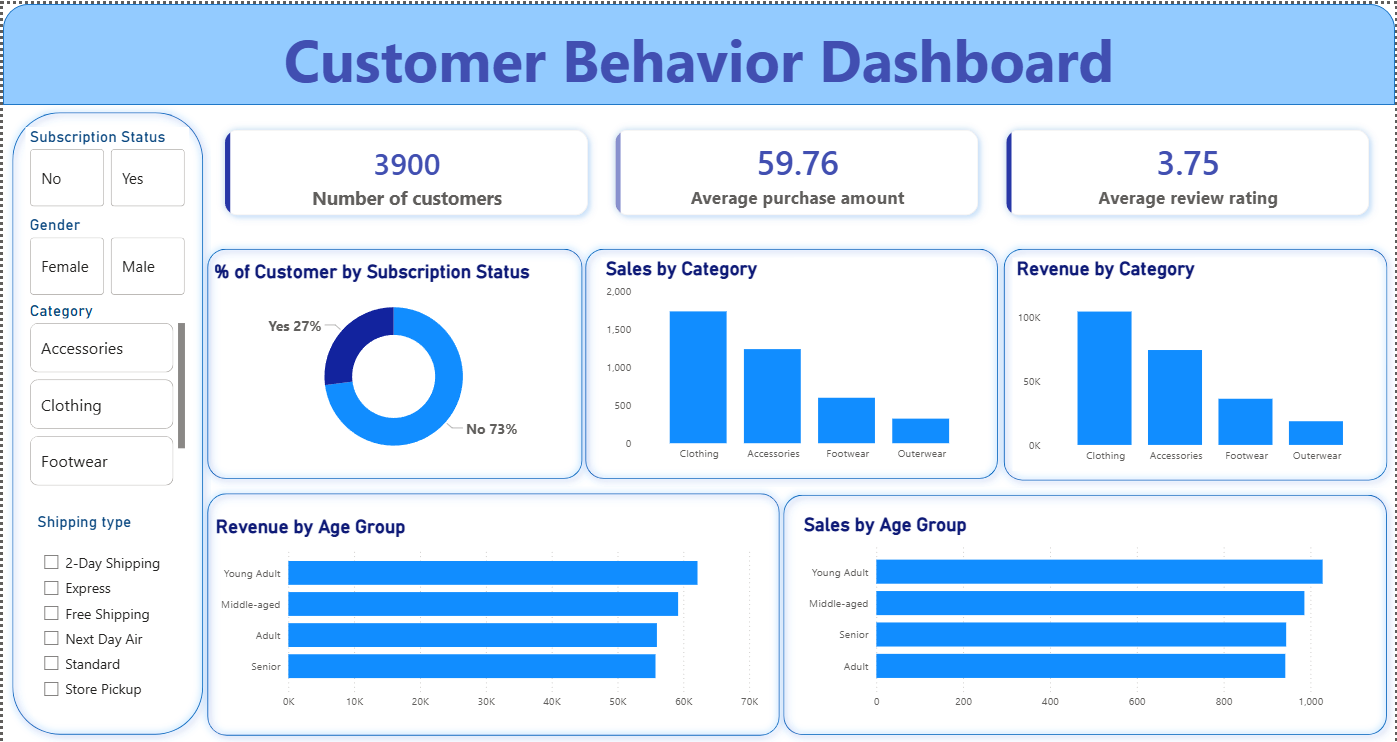

This screenshot's page, from the dashboard's own definition file:
{"tool":"powerbi","page":{"name":"Page 1","canvas":[1600,850],"ordinal":0},"visuals":[{"type":"shape","box":[660.8,272.5,492.2,282.4],"z":0},{"type":"cardVisual","fields":{"Data":["customer_behavior customer.number of customers","customer_behavior customer.average of purchase amount","customer_behavior customer.Average review rating"]},"box":[225.5,115.7,1374.5,156.9],"z":1000},{"type":"shape","box":[0,0,1600,116],"z":2000},{"type":"shape","box":[1141.2,272.5,458.8,284.3],"z":3000},{"type":"donutChart","title":"% of Customer by  Subscription Status","fields":{"Category":["customer_behavior customer.subscription_status"],"Y":["CountNonNull(customer_behavior customer.customer_id)"]},"box":[237.3,294.1,421.6,241.2],"z":4000},{"type":"clusteredColumnChart","title":"Revenue  by Category","fields":{"Category":["customer_behavior customer.category"],"Y":["Sum(customer_behavior customer.purchase_amount)"]},"box":[1160.8,292.2,419.6,245.1],"z":5000},{"type":"shape","box":[225.5,272.5,449,282.4],"z":6000},{"type":"clusteredColumnChart","title":"Sales by Category","fields":{"Category":["customer_behavior customer.category"],"Y":["CountNonNull(customer_behavior customer.customer_id)"]},"box":[688.2,292.2,441.2,243.1],"z":7000},{"type":"shape","box":[2,115.7,237.3,733.3],"z":8000},{"type":"advancedSlicerVisual","title":"Subscription Status","fields":{"Values":["customer_behavior customer.subscription_status"]},"box":[25,148,189,89],"z":9000},{"type":"advancedSlicerVisual","title":"Gender","fields":{"Values":["customer_behavior customer.gender"]},"box":[25.5,243.1,188.2,96.1],"z":10000},{"type":"slicer","title":"Shipping type","fields":{"Values":["customer_behavior customer.shipping_type"]},"box":[35.3,584.3,170.6,233.3],"z":11000},{"type":"clusteredBarChart","title":"Revenue by Age Group","fields":{"Y":["Sum(customer_behavior customer.purchase_amount)"],"Category":["customer_behavior customer.age_group"]},"box":[239.7,587.9,632.8,231],"z":12000},{"type":"shape","box":[225.9,553.4,675.9,296.6],"z":13000},{"type":"shape","box":[888.2,554.9,711.8,294.1],"z":14000},{"type":"clusteredBarChart","title":"Sales by Age Group","fields":{"Y":["CountNonNull(customer_behavior customer.customer_id)"],"Category":["customer_behavior customer.age_group"]},"box":[915.5,586.2,656.9,232.8],"z":15000},{"type":"advancedSlicerVisual","title":"Category","fields":{"Values":["customer_behavior customer.category"]},"box":[25.5,341.2,188.2,217.6],"z":16000}]}

Visuals, with their boxes in screenshot pixels (x1, y1, x2, y2), scaled from the page's 1600x850 canvas onto the 1397x742 screenshot:
shape: 577:238:1007:484
cardVisual - customer_behavior customer.number of customers x customer_behavior customer.average of purchase amount: 197:101:1396:238
shape: 0:0:1396:101
shape: 996:238:1396:486
"% of Customer by  Subscription Status" donutChart: 207:257:575:467
"Revenue  by Category" clusteredColumnChart: 1014:255:1380:469
shape: 197:238:589:484
"Sales by Category" clusteredColumnChart: 601:255:986:467
shape: 2:101:209:741
"Subscription Status" advancedSlicerVisual: 22:129:187:207
"Gender" advancedSlicerVisual: 22:212:187:296
"Shipping type" slicer: 31:510:180:714
"Revenue by Age Group" clusteredBarChart: 209:513:762:715
shape: 197:483:787:741
shape: 776:484:1396:741
"Sales by Age Group" clusteredBarChart: 799:512:1373:715
"Category" advancedSlicerVisual: 22:298:187:488
